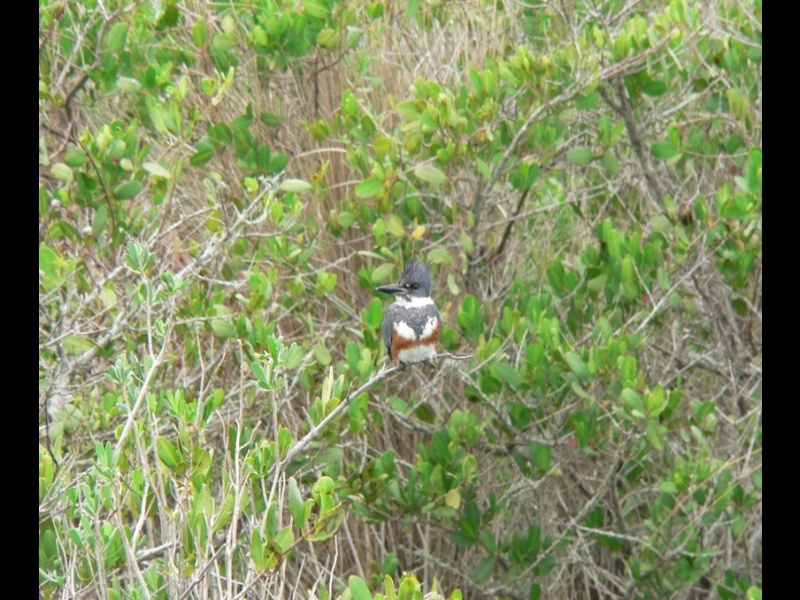kingfisher: (376, 258, 440, 371)
